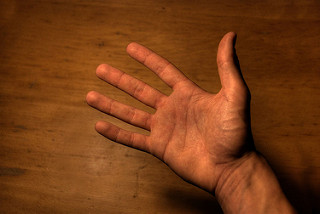palm: (149, 87, 239, 180)
